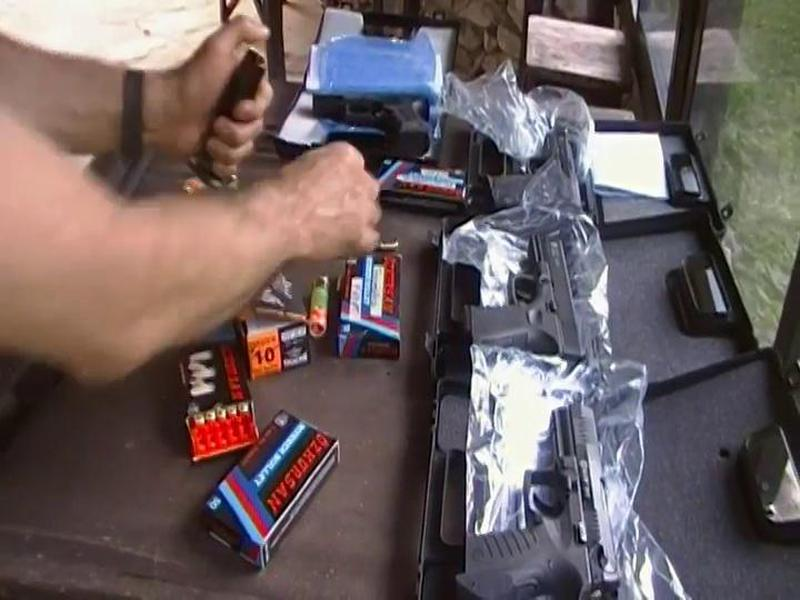Pistola: (433, 390, 655, 596), (453, 226, 598, 365)
